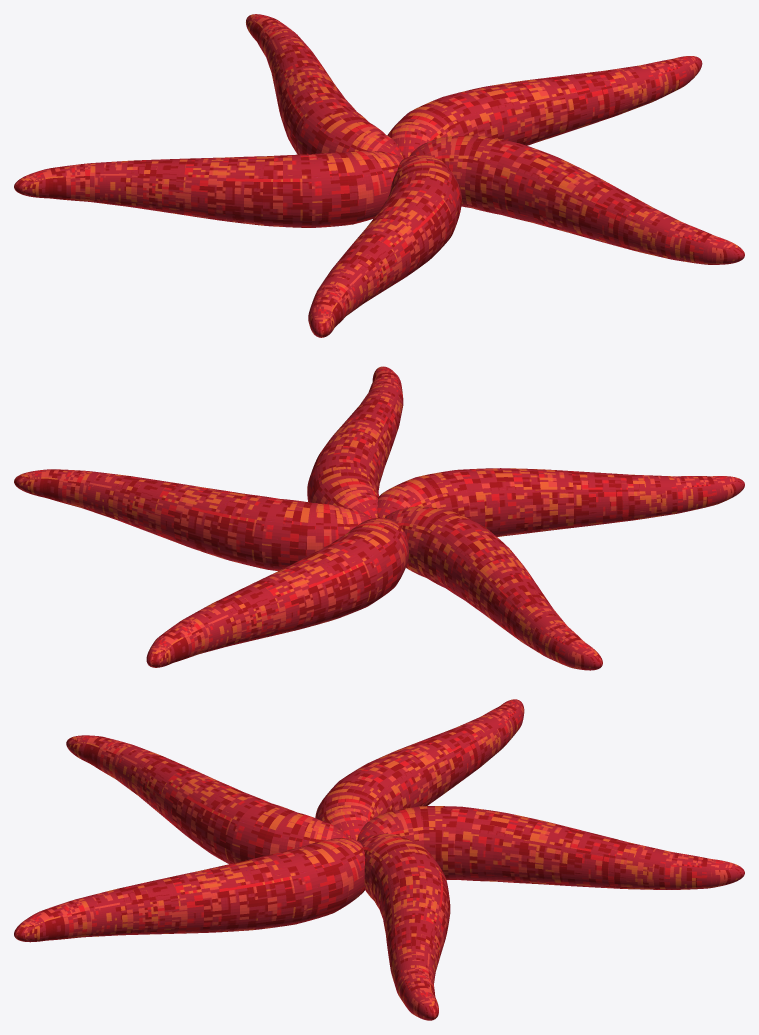
File: EstrellaEchinasterSepositus.fbx
The picture shows the model from 3 angles, top to bottom: view 1: azimuth 30°, elevation 25°; view 2: azimuth 150°, elevation 25°; view 3: azimuth 270°, elevation 25°; orthographic projection. The views are drawn at different scales.
Parts seen in each view (by area): view 1: Cube.001; view 2: Cube.001; view 3: Cube.001.
Part boxes in pixels (box(x1,y1,x2,y2)): Cube.001: box(14, 14, 744, 337); Cube.001: box(14, 366, 744, 670); Cube.001: box(14, 699, 744, 1020).
Size of the model in its own units: 1318 by 129 by 1300.
Materials: 1 (1 with a texture image).
